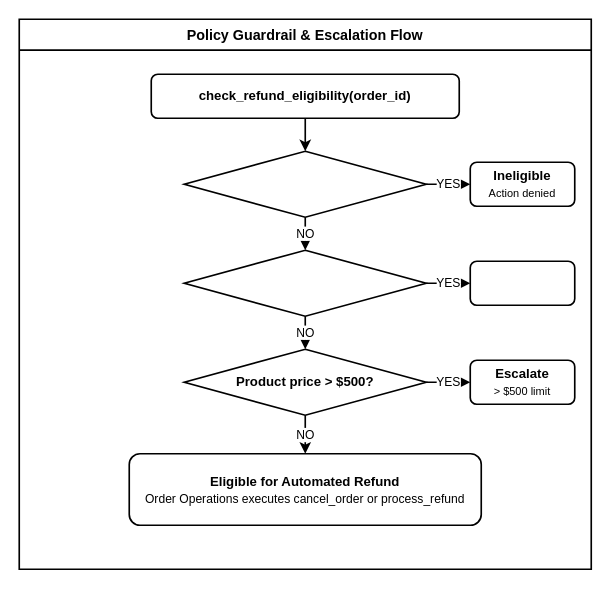
The diagram is 612 pixels wide and 590 high, and some of its shapes have lost their labels. Here are the shapes that lost their labels. From the top down, the centre of each, then its label:
At (x=305, y=184): "Is status == 'Refunded'?".
At (x=305, y=283): "Days since order > 30?".
At (x=522, y=283): "Escalate > 30-day window".
